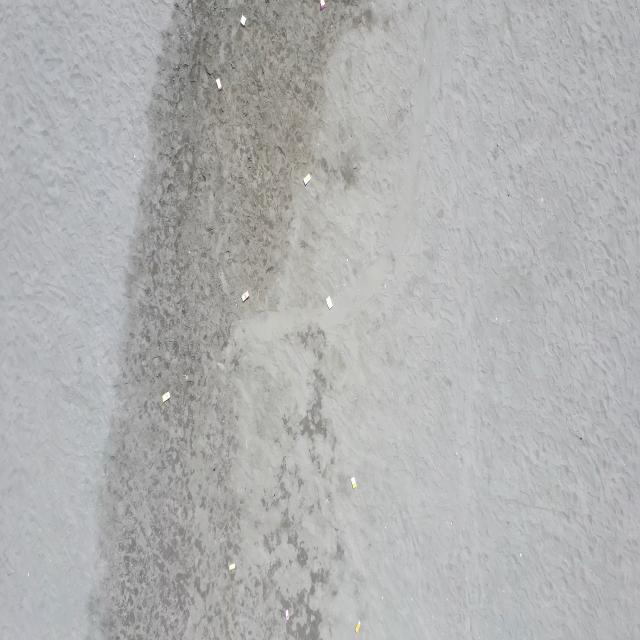retort-pouch: (324, 294, 335, 312), (349, 474, 358, 491), (302, 172, 312, 187), (240, 290, 250, 302), (162, 391, 171, 404), (239, 14, 248, 27), (215, 77, 223, 91), (318, 0, 327, 12), (355, 620, 362, 634), (284, 608, 290, 622), (228, 563, 236, 572)
